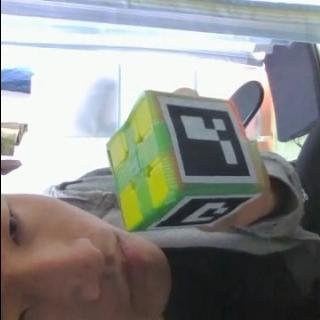armor: (156, 98, 258, 186), (144, 193, 258, 230)
robot: (104, 92, 260, 230)
